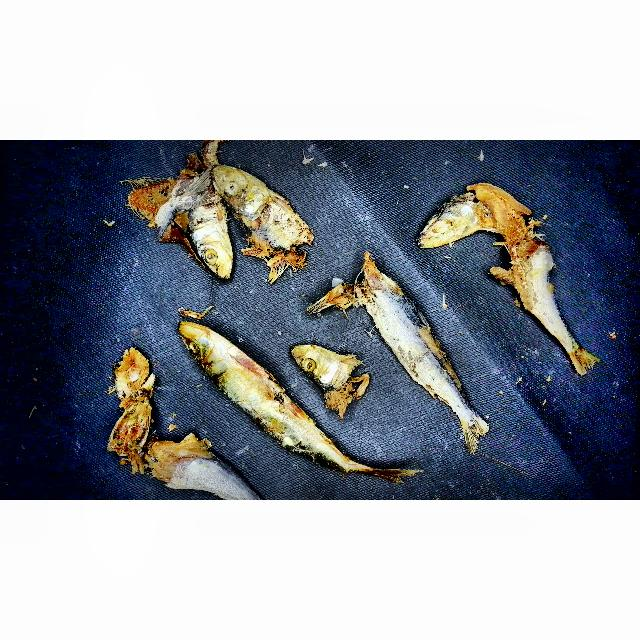Rejected_Body: (347, 258, 459, 396), (208, 381, 335, 456), (489, 231, 565, 329), (149, 440, 246, 500)
Rejected_Head: (208, 163, 323, 270), (98, 349, 164, 466), (153, 195, 237, 284), (405, 185, 525, 247), (283, 341, 382, 413), (174, 307, 251, 384)
Rejected_Tail: (342, 446, 416, 494), (549, 322, 607, 381), (445, 394, 491, 457)
